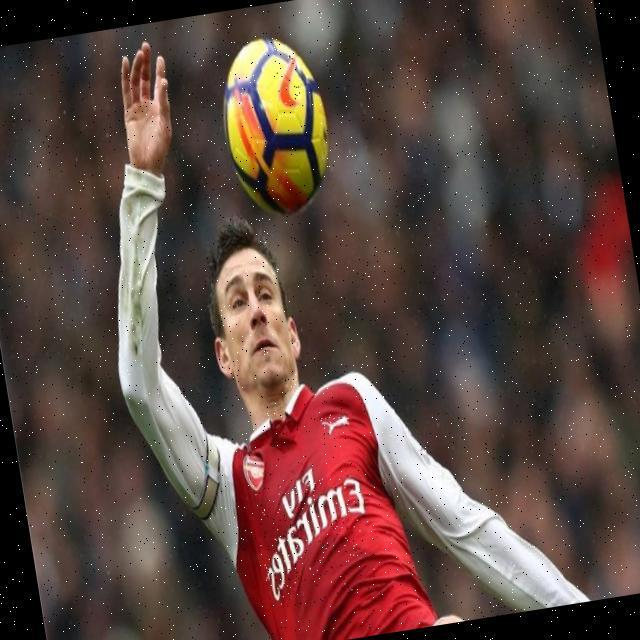Emirates: (252, 473, 379, 610)
Nike: (273, 52, 303, 111)
Puma: (320, 412, 351, 438)
